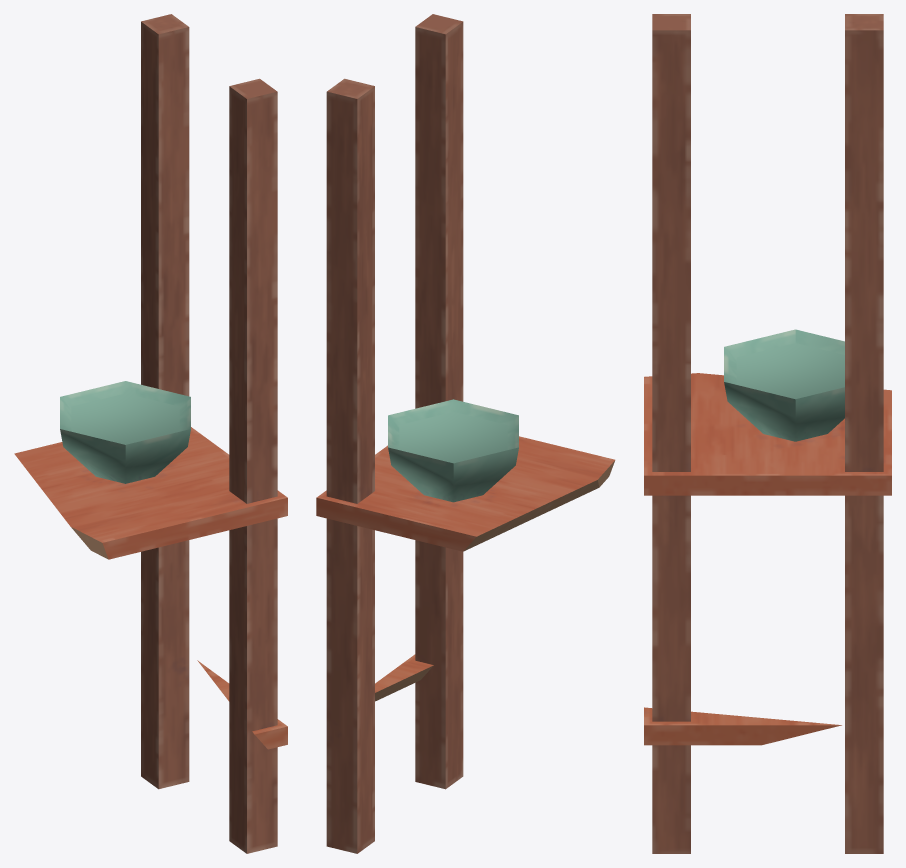
File: pot_rack_s07.fbx
The picture shows the model from 3 angles, left to right: view 1: azimuth 30°, elevation 25°; view 2: azimuth 150°, elevation 25°; view 3: azimuth 270°, elevation 25°; orthographic projection. The views are drawn at different scales.
Parts seen in each view (by area): view 1: pot_rack_s07; view 2: pot_rack_s07; view 3: pot_rack_s07.
Part boxes in pixels (bbox=[...]): pot_rack_s07: bbox=[14, 14, 287, 853]; pot_rack_s07: bbox=[316, 14, 615, 853]; pot_rack_s07: bbox=[644, 14, 891, 853].
Size of the model in its own units: 1.76 by 6.6 by 1.8.
